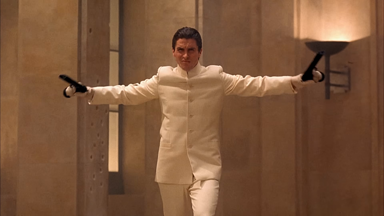firearm: (55, 72, 89, 101), (299, 50, 325, 83)
